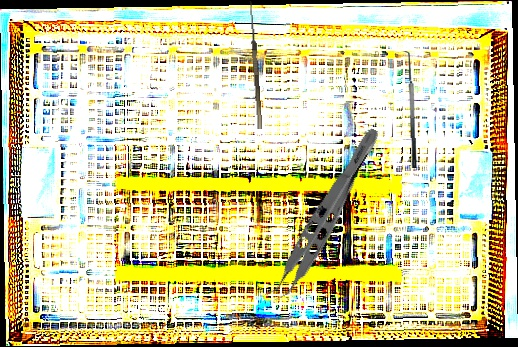Hook Surgical: (242, 0, 263, 130)
Spatula Surgical: (399, 50, 418, 169)
Tissue Forceps: (260, 118, 385, 309)
